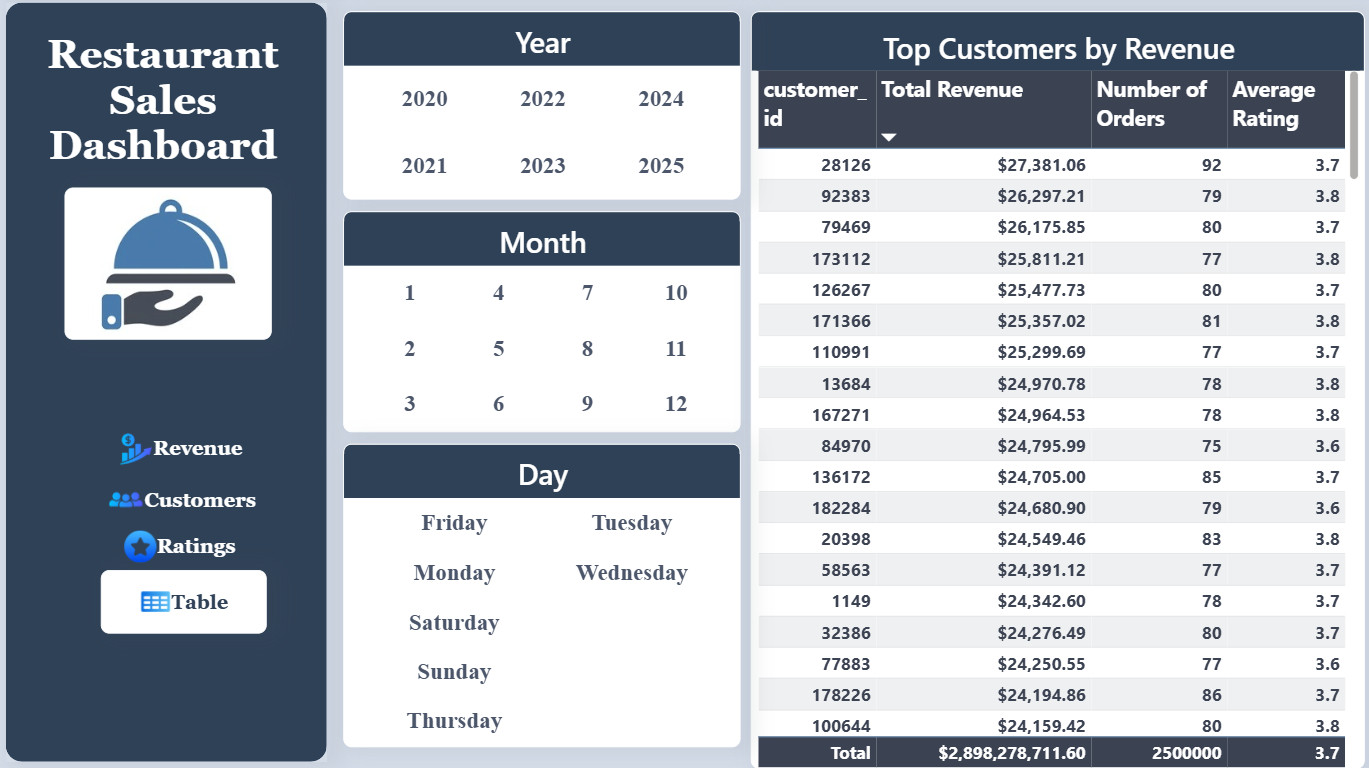

The dashboard page shown, as its layout file describes it:
{"tool":"powerbi","page":{"name":"Table","canvas":[1280,720],"ordinal":3},"visuals":[{"type":"shape","box":[8.6,7.4,298.8,706.2],"z":0},{"type":"image","box":[62.8,179.1,193,141.9],"z":1000},{"type":"textbox","title":"Restaurant Sales & Performance Dashboard","box":[18.6,31.4,255.8,140.7],"z":2000},{"type":"slicer","title":"Month","fields":{"Values":["fullrestaurant.month"]},"box":[322.1,201.2,369.8,205.8],"z":3000},{"type":"tableEx","title":"Top Customers by Revenue","fields":{"Values":["fullrestaurant.customer_id","Measures_table.Total Revenue","Measures_table.Number of Orders","Measures_table.Average Rating"]},"box":[701.2,15.1,570.9,704.7],"z":4000},{"type":"slicer","title":"Year","fields":{"Values":["fullrestaurant.year"]},"box":[322.1,15.1,369.8,175.6],"z":5000},{"type":"slicer","title":"Day","fields":{"Values":["fullrestaurant.day_name"]},"box":[322.1,417.4,369.8,282.6],"z":6000},{"type":"actionButton","title":"Customers","box":[76.7,440.7,189.5,58.1],"z":7000},{"type":"actionButton","title":"Customers","box":[89.5,393,161.6,58.1],"z":8000},{"type":"actionButton","title":"Customers","box":[96.5,534.9,154.7,59.3],"z":9000},{"type":"actionButton","title":"Customers","box":[89.5,483.7,161.6,58.1],"z":10000}]}

Visuals, with their boxes in screenshot pixels (x1, y1, x2, y2), scaled from the page's 1280x720 canvas onto the 1369x768 screenshot:
shape: [9, 8, 329, 761]
image: [67, 191, 274, 342]
"Restaurant Sales & Performance Dashboard" textbox: [20, 33, 293, 184]
"Month" slicer: [344, 215, 740, 434]
"Top Customers by Revenue" tableEx: [750, 16, 1361, 767]
"Year" slicer: [344, 16, 740, 203]
"Day" slicer: [344, 445, 740, 747]
"Customers" actionButton: [82, 470, 285, 532]
"Customers" actionButton: [96, 419, 269, 481]
"Customers" actionButton: [103, 571, 269, 634]
"Customers" actionButton: [96, 516, 269, 578]
